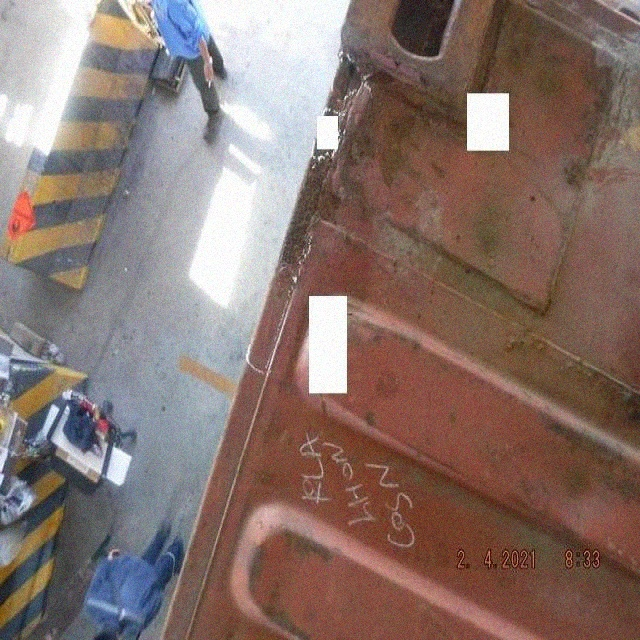Hole: (347, 61, 360, 80)
Rusty: (355, 77, 422, 192), (278, 149, 335, 269), (328, 81, 361, 120)
